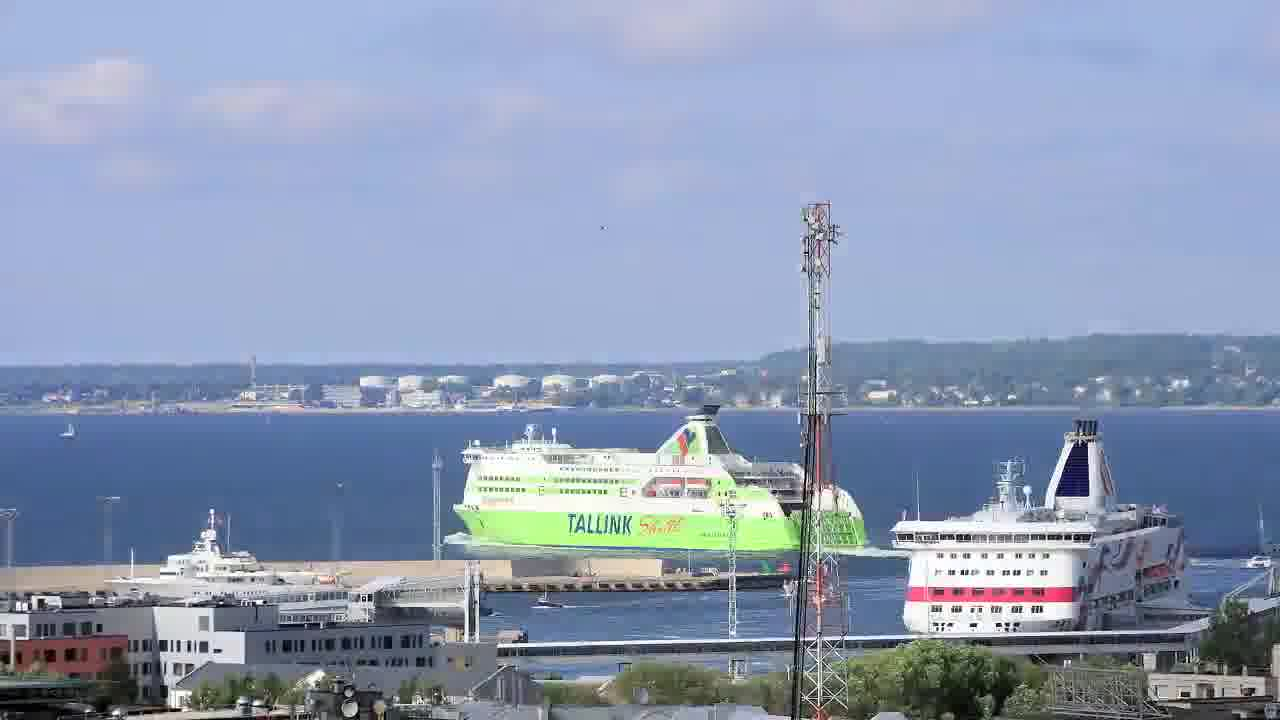type-0: (524, 583, 575, 615)
type-2: (46, 407, 94, 456)
type-3: (868, 415, 1225, 638), (442, 418, 864, 574), (84, 511, 353, 609)
